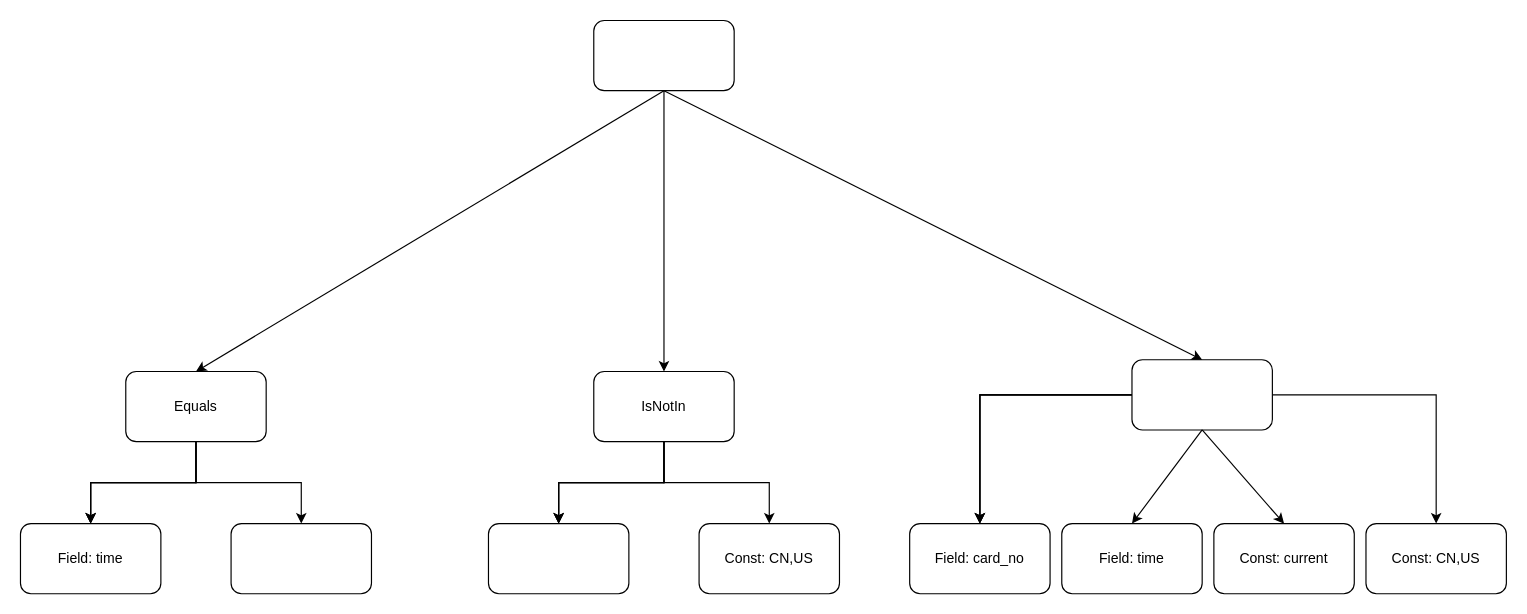
Image size: 1527x614. Some labels were removed from this diagram. Each missing label, with the centre of its shape:
"BinaryRouter" goes at point (663, 55).
"Const: time" goes at point (300, 558).
"Field: country" goes at point (558, 558).
"StreamCubeFeature" goes at point (1201, 394).
